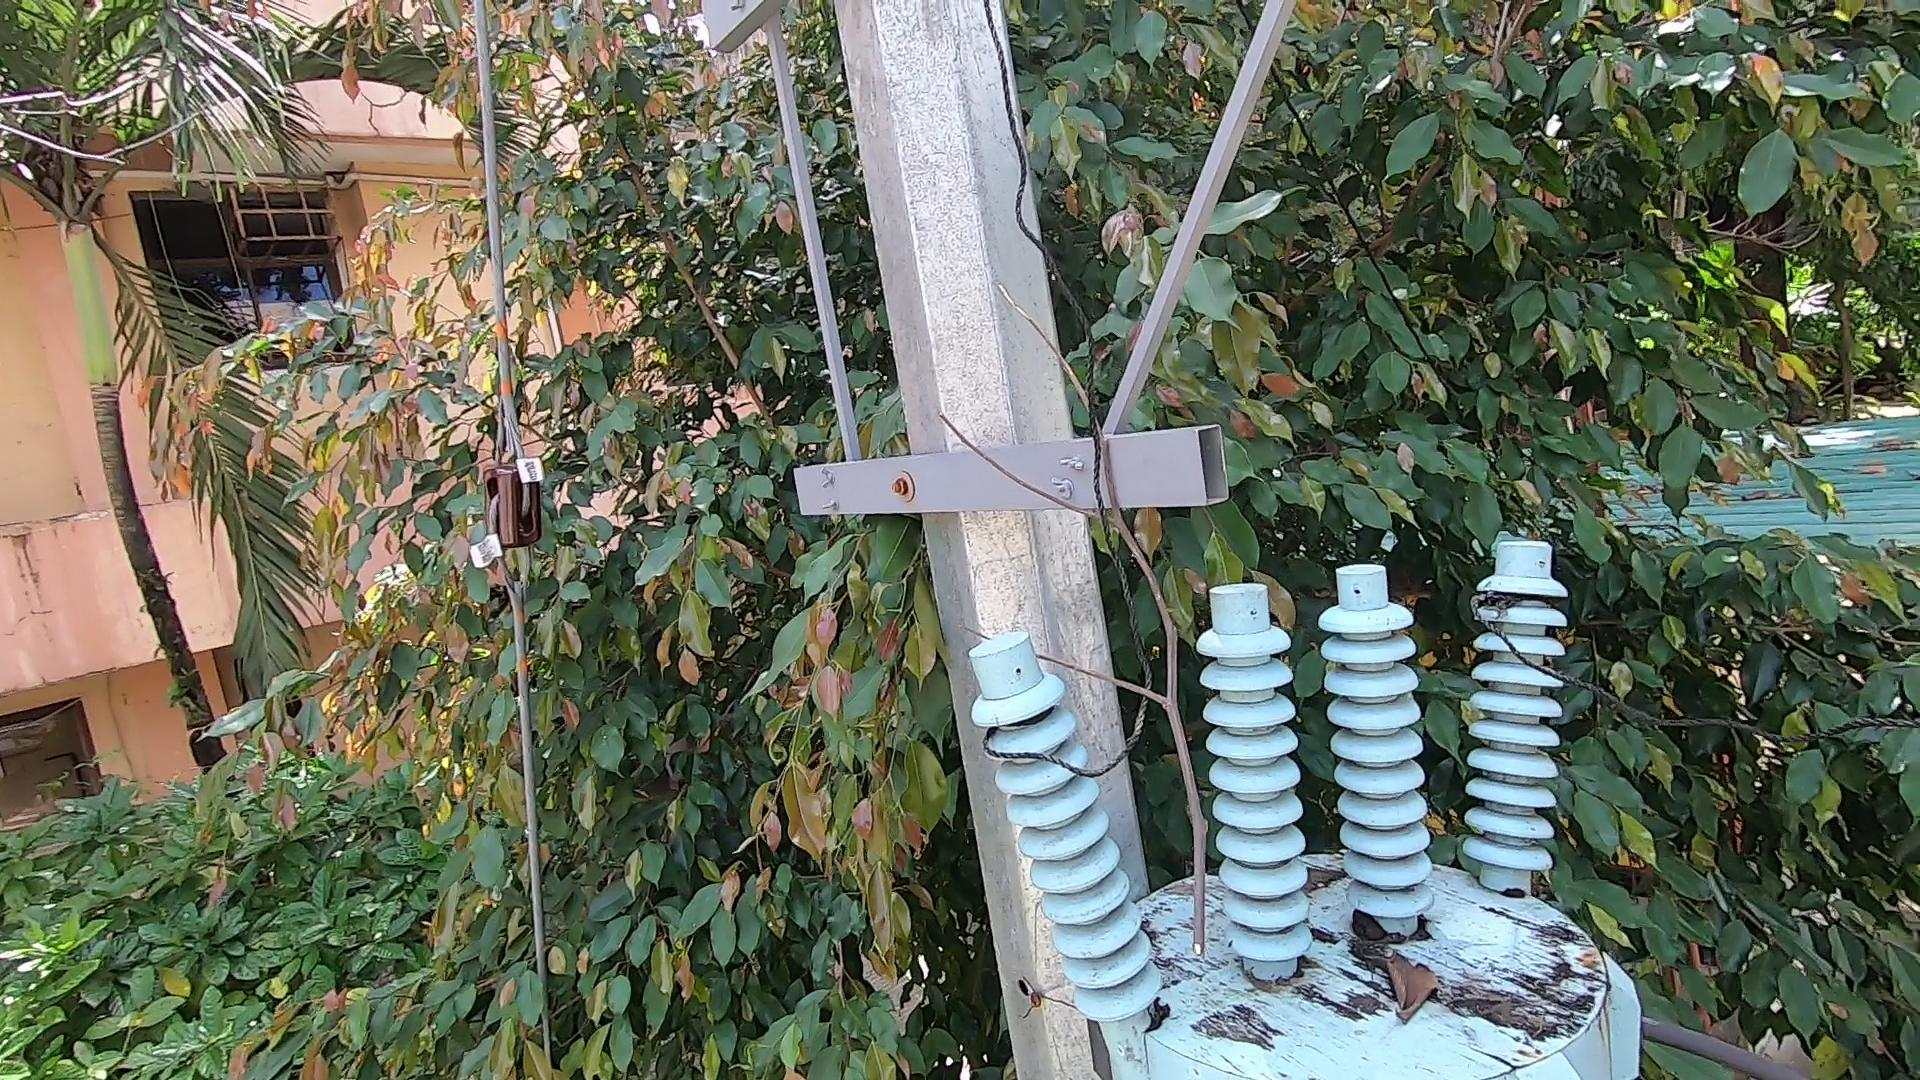leaf: (1385, 957, 1436, 1023), (1352, 898, 1394, 944)
tree branch: (942, 269, 1226, 973)
